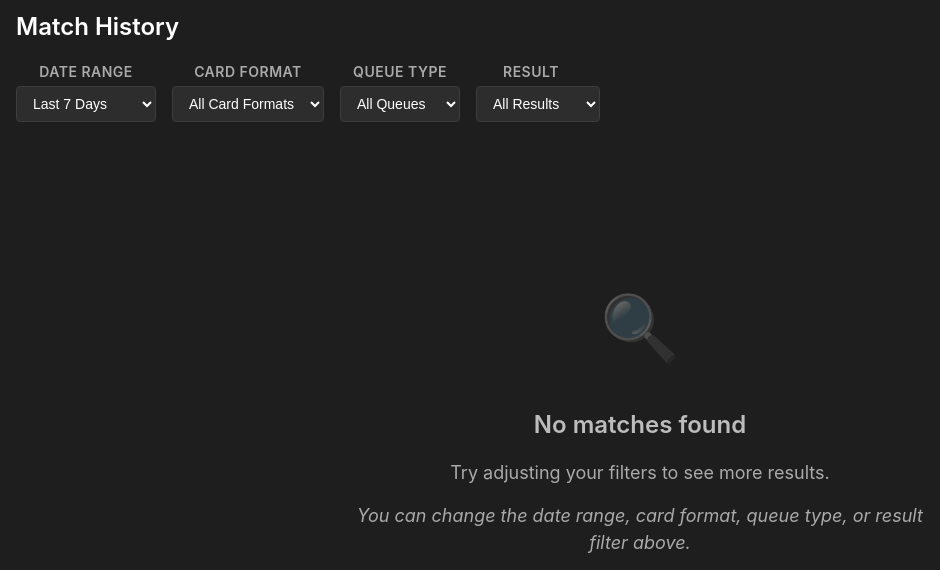
it: MatchHistory › Empty State › should show default empty state when all filters are set to all
Note: Change dateRange to 'all' (other filters are already 'all' by default)
Select "All Time" in the 1st dropdown at point(86, 104), box [16, 86, 156, 122]
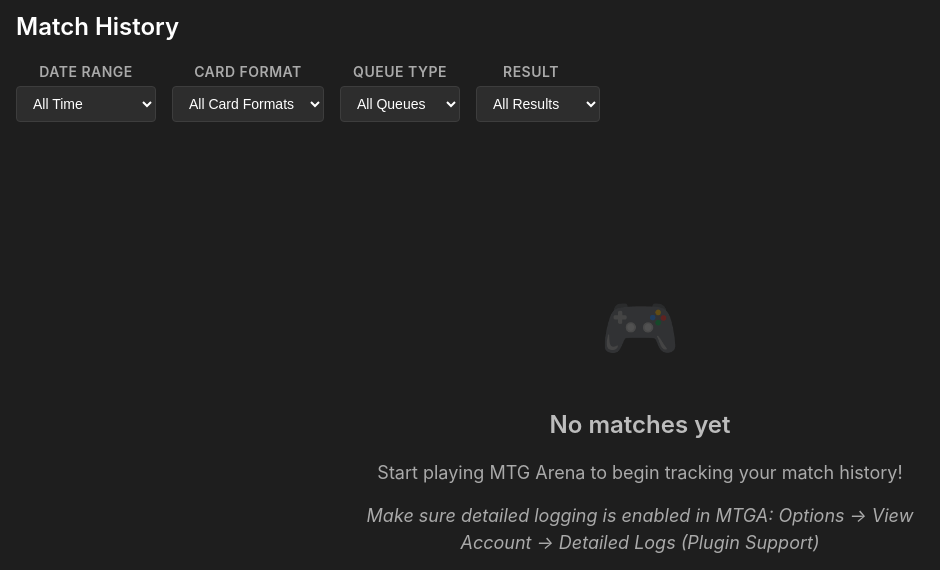
Check: the heading "No matches yet" is shown, box [550, 407, 730, 443]
Check: the text "Start playing MTG Arena to begin tracking your match history!" is shown, box [377, 459, 903, 486]
